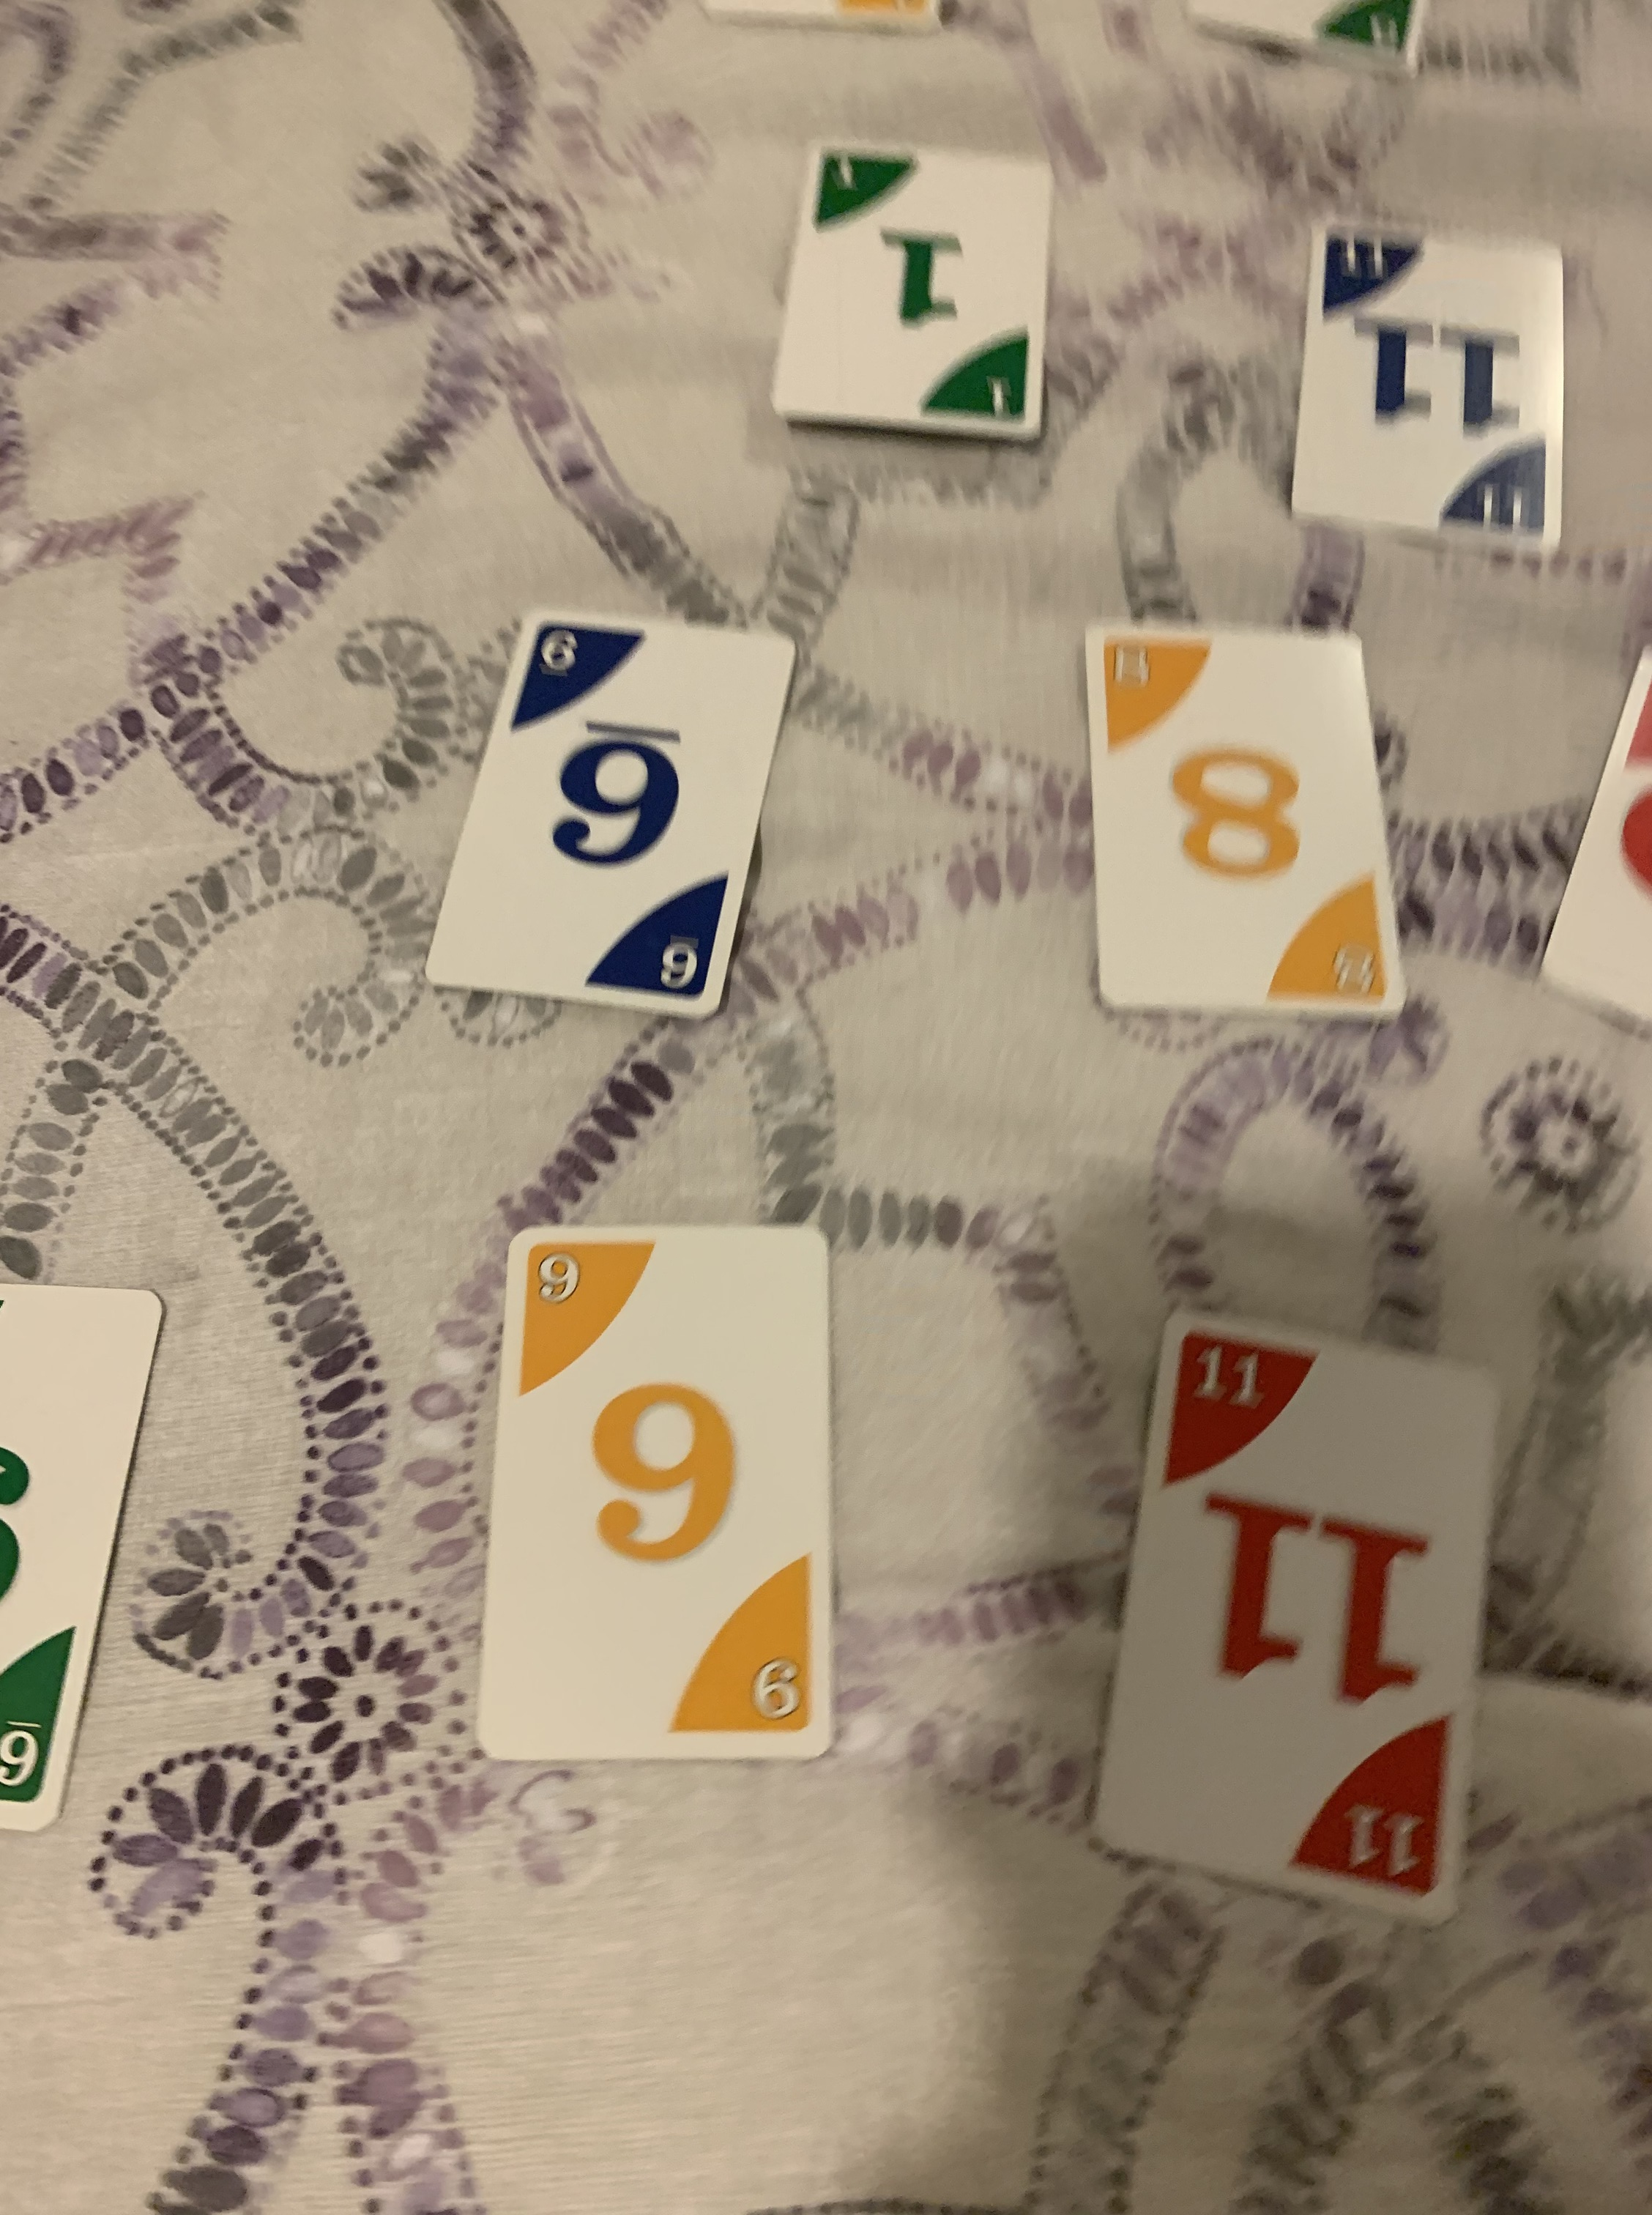eight: (1081, 620, 1407, 1019)
eleven: (1090, 1309, 1499, 1929), (1284, 217, 1567, 561)
nine: (475, 1222, 833, 1772)
one: (767, 130, 1060, 450)
sex: (420, 608, 800, 1024)
